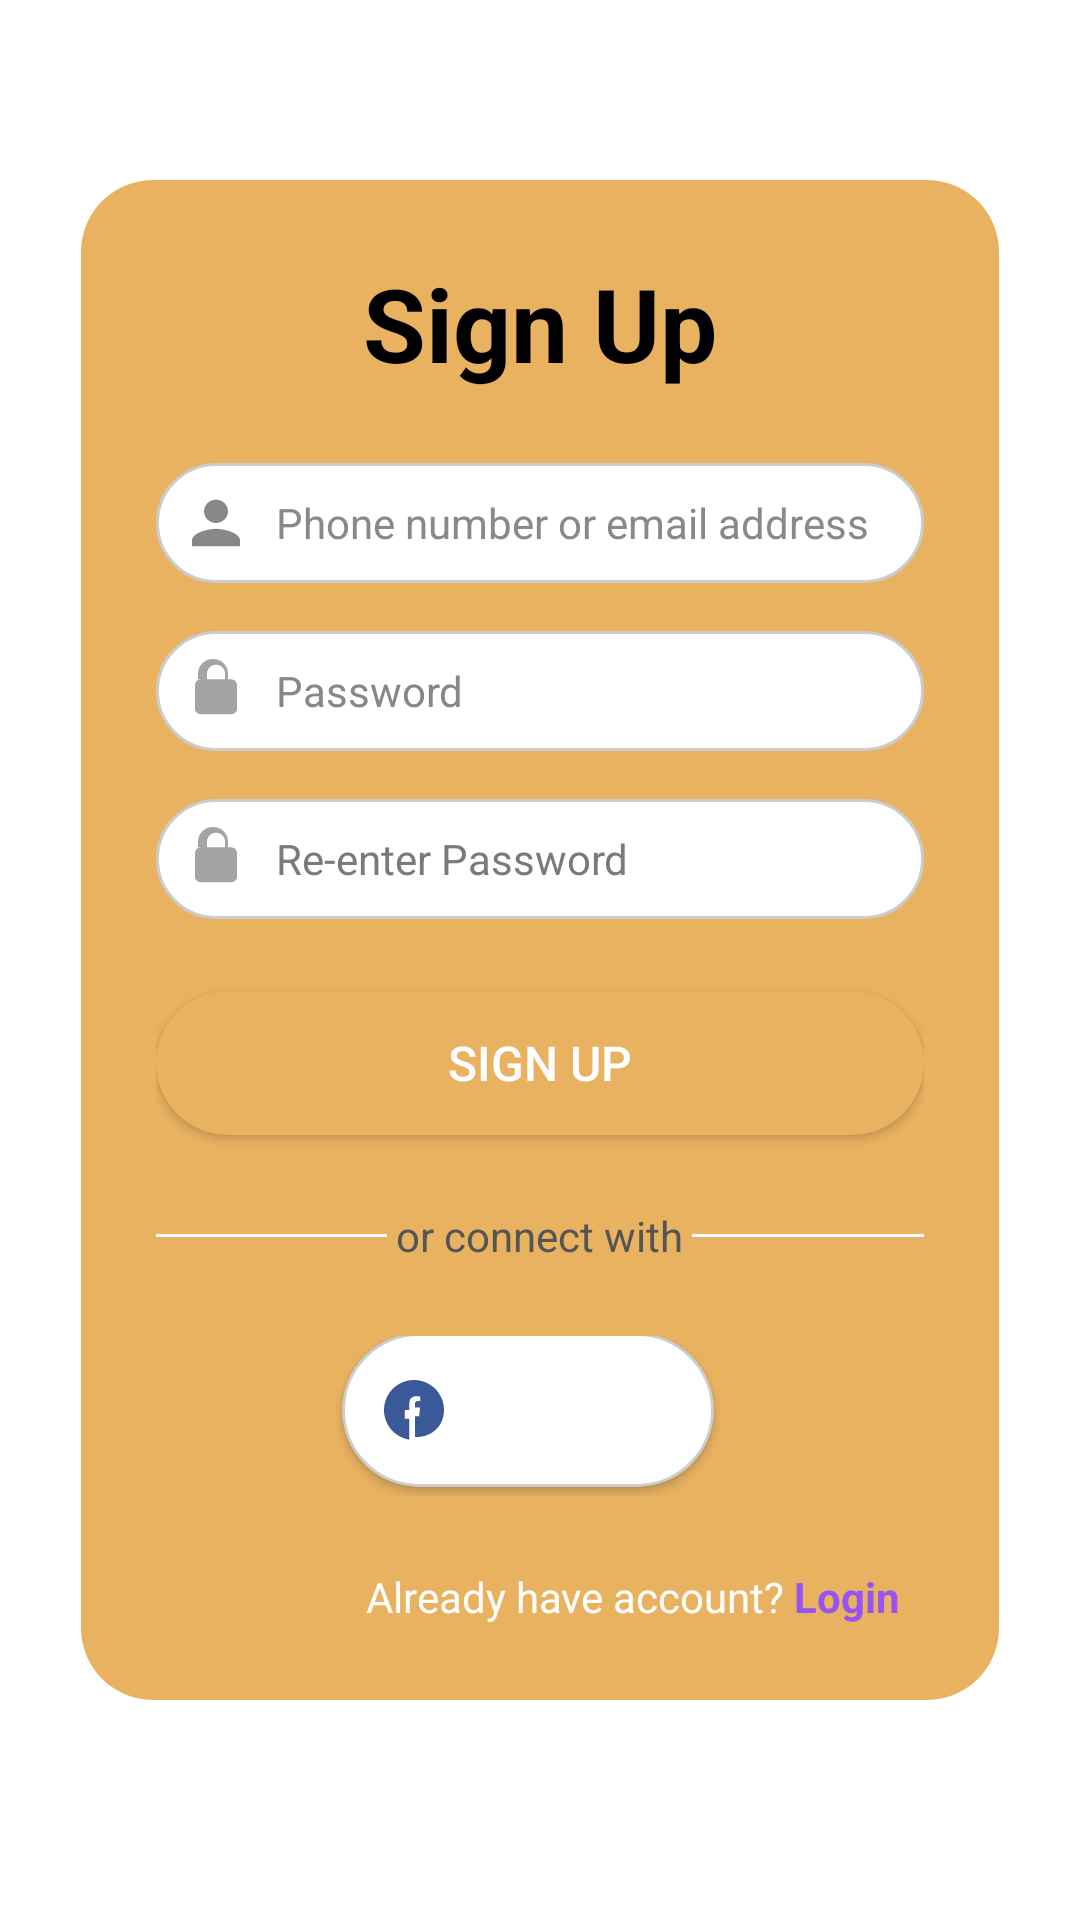

Screen size 1080×1920. Icon name, then its box in pixels as [x1,y1,x2,y2]:
lock: [195,659,237,714], [195,827,237,882]
person: [192,499,240,547]
